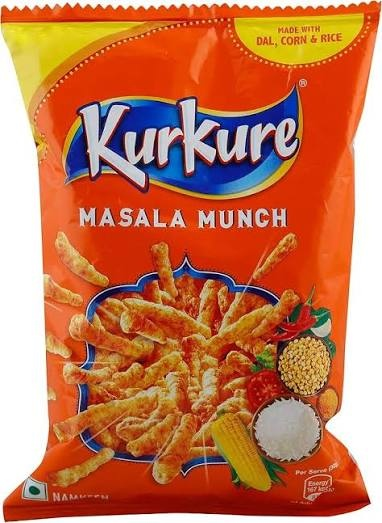kurkure: (0, 22, 382, 522)
